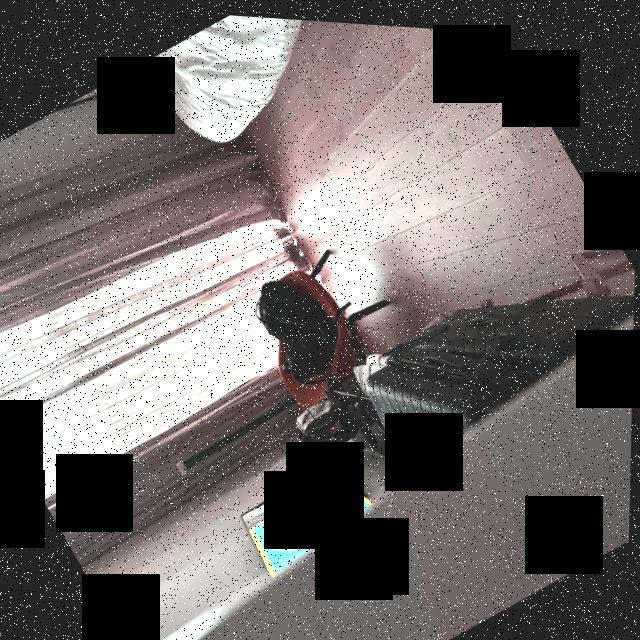Marker: (244, 455, 384, 580)
